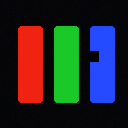1 square: (88, 51, 98, 61)
